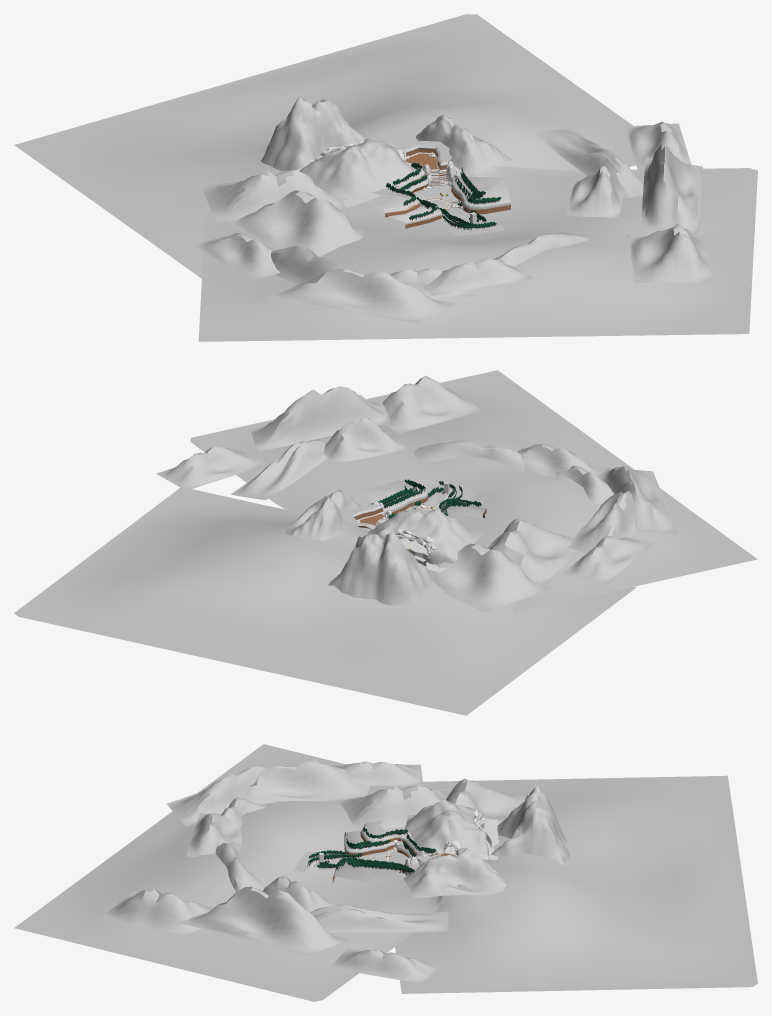
Rendered from newMap.fbx.
3 renders of one model, top to bottom at view 1: azimuth 30°, elevation 25°; view 2: azimuth 150°, elevation 25°; view 3: azimuth 270°, elevation 25°, orthographic. The views are drawn at different scales.
Parts seen in each view (by area): view 1: Landscape.003, Landscape.004, BézierCurve.007, Landscape.005, BézierCurve.004, untitled.004; view 2: Landscape.003, Landscape.005, Landscape.004, BézierCurve.007, BézierCurve.004; view 3: Landscape.003, Landscape.004, Landscape.005, BézierCurve.007, BézierCurve.004, untitled.004, BézierCurve.006.
Boxes of the visible parts, x1,y1,x2,y2 form: Landscape.003: [14, 14, 757, 341]; Landscape.004: [299, 115, 511, 201]; BézierCurve.007: [309, 141, 510, 228]; Landscape.005: [261, 96, 365, 171]; BézierCurve.004: [413, 184, 504, 235]; untitled.004: [454, 167, 501, 204]; Landscape.003: [14, 370, 757, 715]; Landscape.005: [328, 531, 433, 605]; Landscape.004: [285, 489, 483, 564]; BézierCurve.007: [341, 480, 486, 566]; BézierCurve.004: [404, 479, 477, 513]; Landscape.003: [14, 744, 757, 1001]; Landscape.004: [401, 798, 506, 898]; Landscape.005: [491, 785, 570, 865]; BézierCurve.007: [332, 811, 497, 884]; BézierCurve.004: [294, 840, 407, 875]; untitled.004: [335, 857, 414, 873]; BézierCurve.006: [311, 819, 498, 867].
Size of what is drawn, in the model's own units: 190186 by 160670 by 21881.
